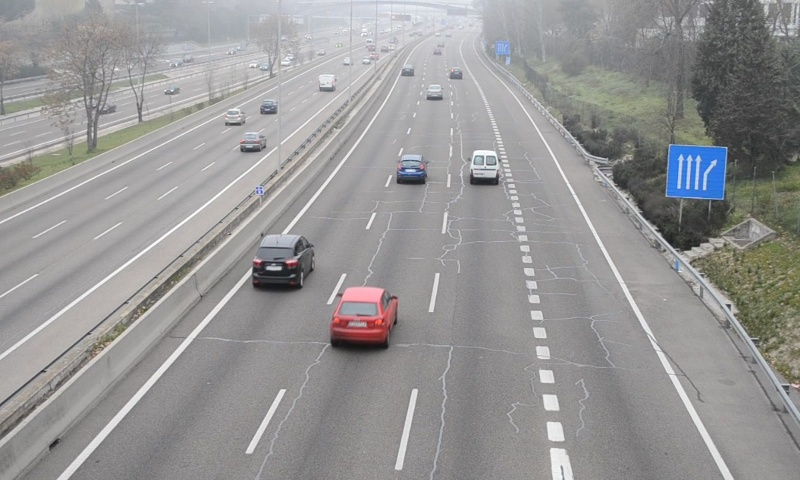car: (330, 287, 396, 345), (250, 234, 313, 286), (396, 154, 427, 184), (425, 83, 444, 101)
van: (470, 150, 500, 184)
